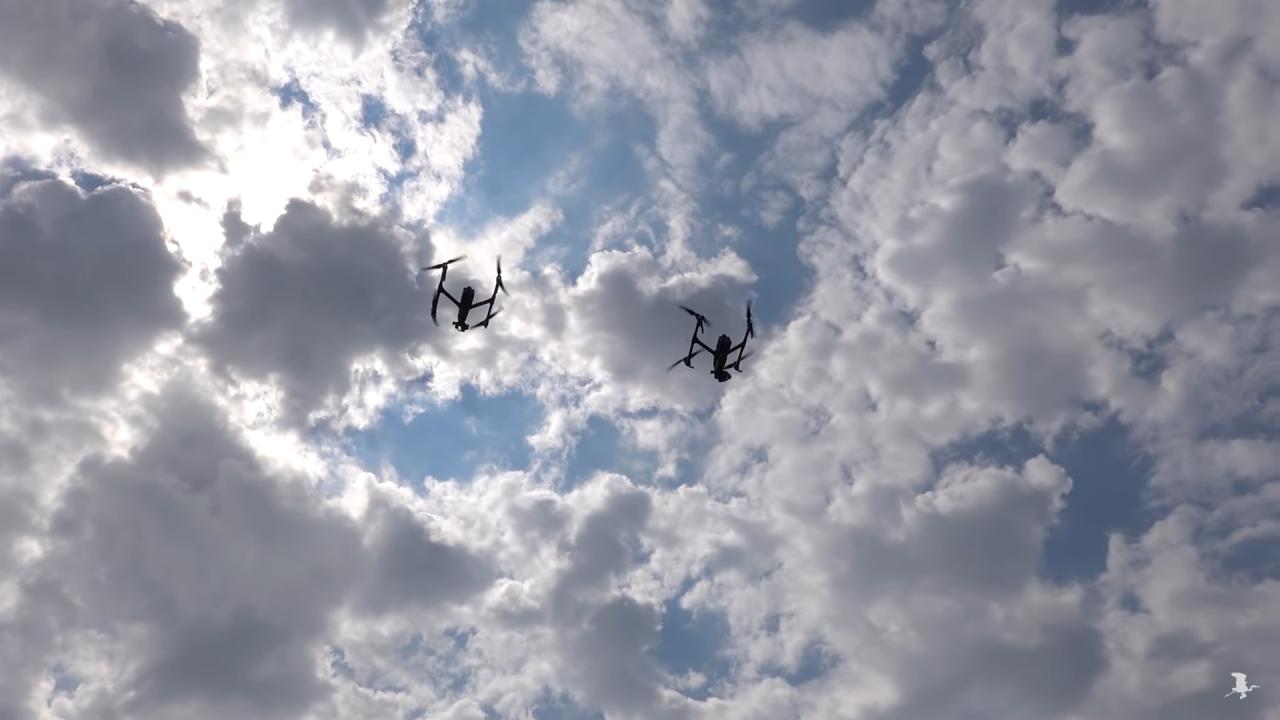Drone: (412, 240, 522, 348), (659, 288, 769, 395)
